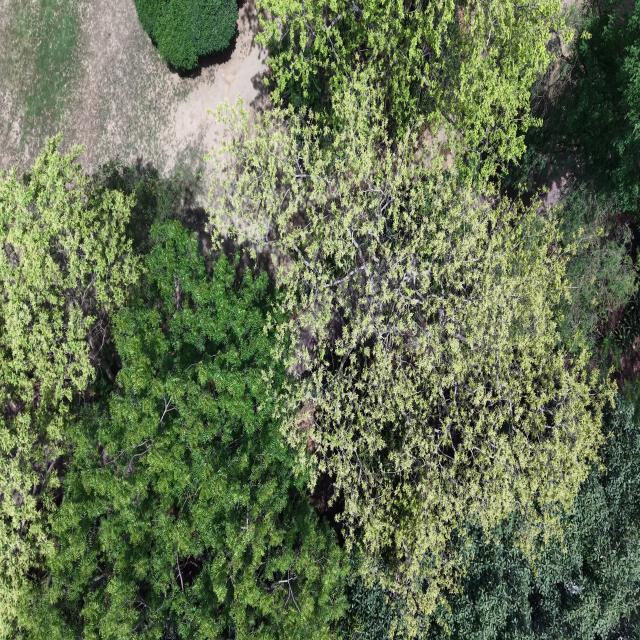DRY_AREA: (0, 0, 266, 175)
VEGETATION_TREE: (0, 0, 639, 639), (215, 81, 612, 616), (0, 219, 346, 638), (33, 221, 344, 639), (0, 137, 139, 637), (258, 0, 570, 176), (424, 398, 639, 639), (445, 399, 639, 638), (0, 137, 139, 406), (528, 0, 639, 212), (559, 181, 636, 351), (136, 0, 238, 70)
